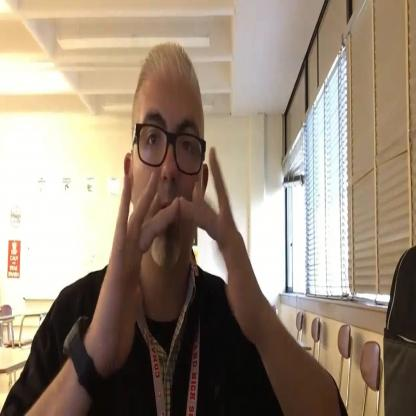Internet: (95, 159, 254, 366)
